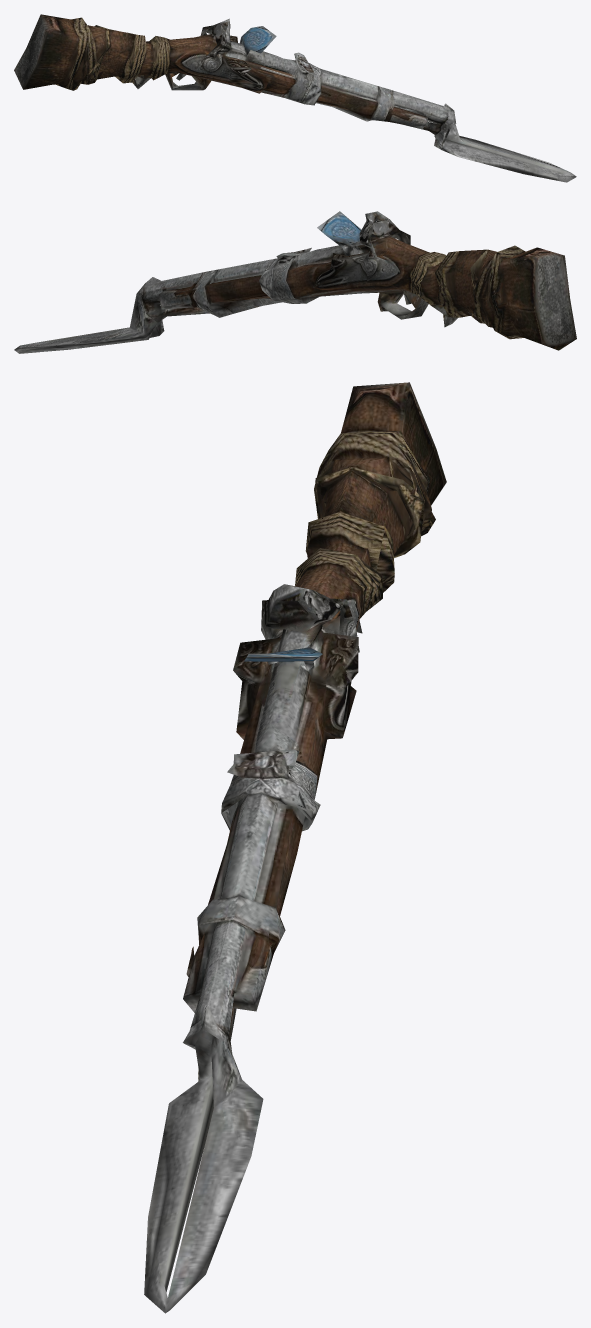
File: infantry_base_musket.glb
The picture shows the model from 3 angles, top to bottom: view 1: azimuth 30°, elevation 25°; view 2: azimuth 150°, elevation 25°; view 3: azimuth 270°, elevation 25°; orthographic projection. The views are drawn at different scales.
Parts seen in each view (by area): view 1: tripo_node_e6614ee2-f64f-410a-93ac-9fdd2cbfebe6; view 2: tripo_node_e6614ee2-f64f-410a-93ac-9fdd2cbfebe6; view 3: tripo_node_e6614ee2-f64f-410a-93ac-9fdd2cbfebe6.
Part boxes in pixels (box(x1,y1,x2,y2)): tripo_node_e6614ee2-f64f-410a-93ac-9fdd2cbfebe6: box(14, 14, 576, 182); tripo_node_e6614ee2-f64f-410a-93ac-9fdd2cbfebe6: box(14, 211, 576, 353); tripo_node_e6614ee2-f64f-410a-93ac-9fdd2cbfebe6: box(144, 382, 446, 1313).
Bounding box in the file's own units: 0.6629 × 0.2972 × 0.1737.
Materials: 1 (1 with a texture image).
